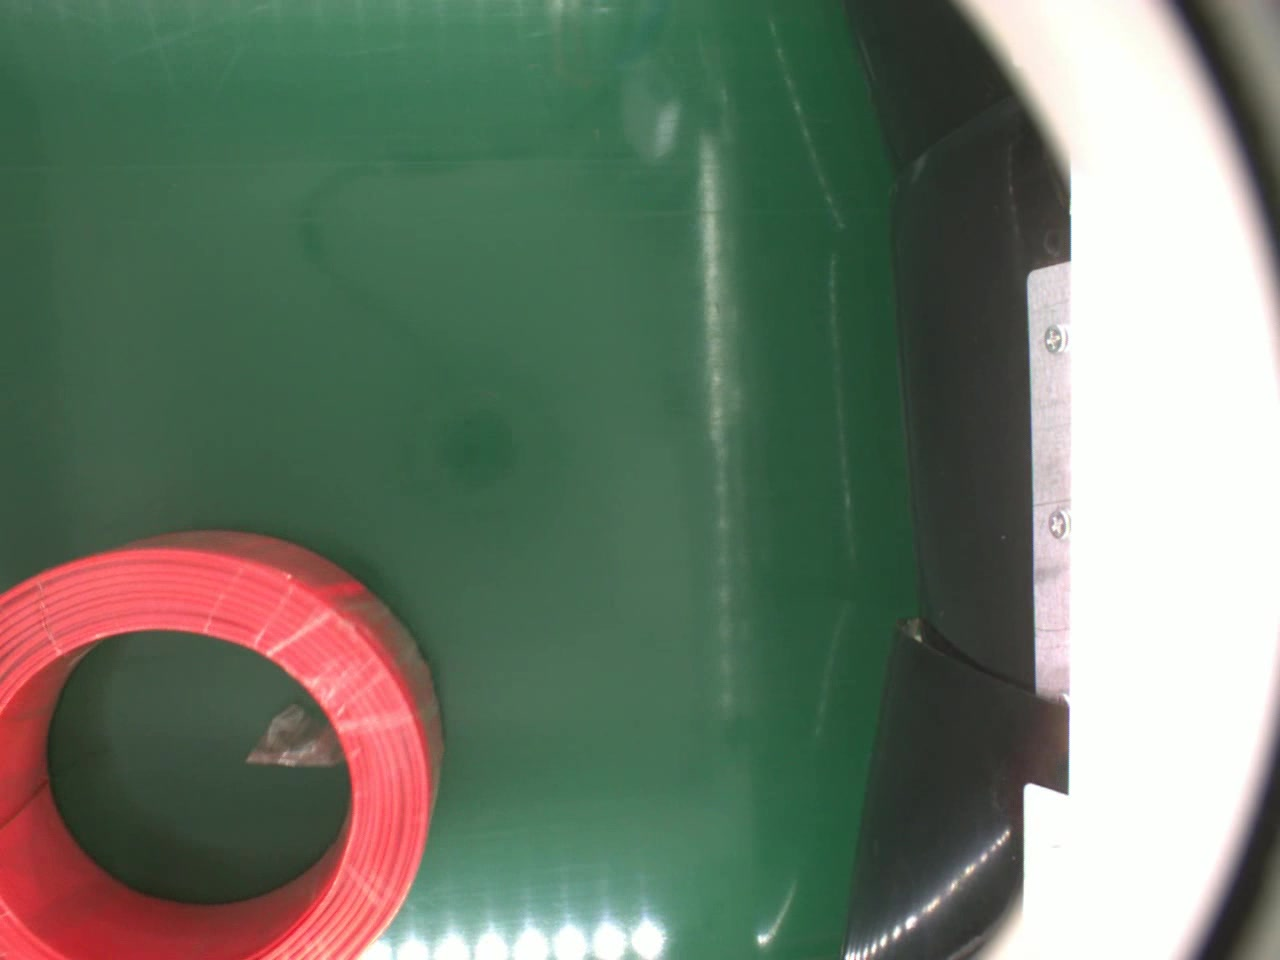red: (0, 531, 443, 960)
